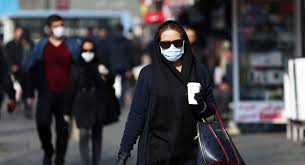mask: (157, 47, 185, 61), (80, 53, 94, 63), (53, 29, 63, 38)
